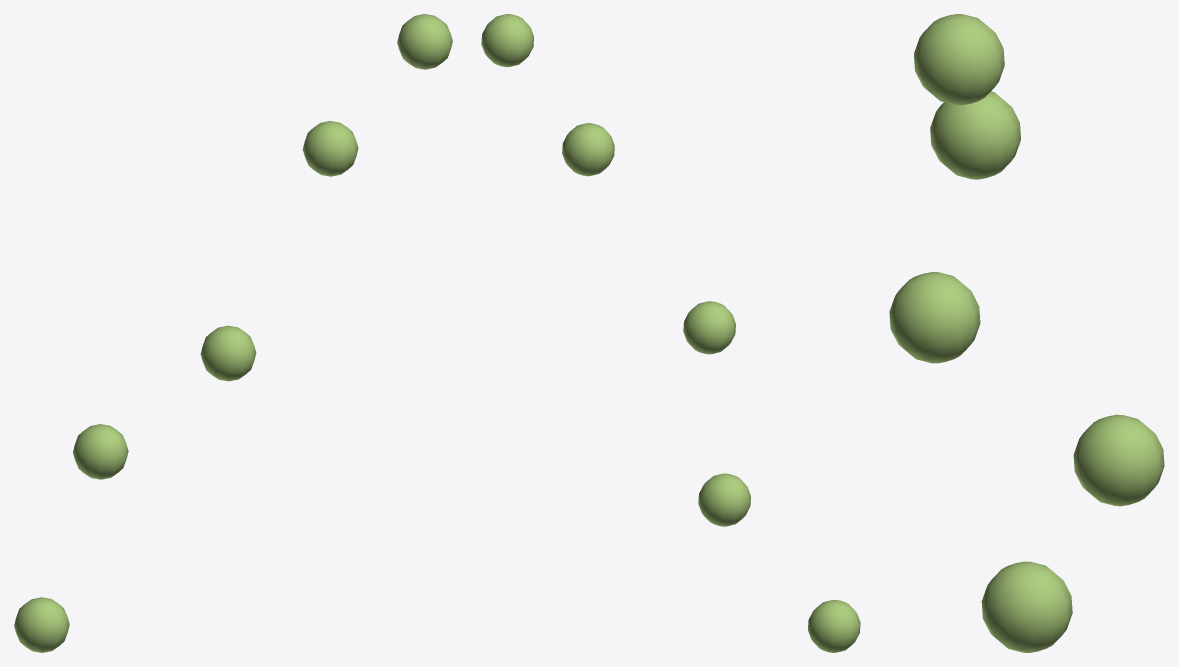
The model's file is brachial-nodes-r.glb.
3 renders of one model, left to right at view 1: azimuth 30°, elevation 25°; view 2: azimuth 150°, elevation 25°; view 3: azimuth 270°, elevation 25°, orthographic. The views are drawn at different scales.
Visible parts, largest first — view 1: Brachial nodes.r; view 2: Brachial nodes.r; view 3: Brachial nodes.r.
Boxes of the visible parts, bbox=[...] form: Brachial nodes.r: bbox=[14, 14, 452, 652]; Brachial nodes.r: bbox=[481, 14, 860, 652]; Brachial nodes.r: bbox=[889, 14, 1164, 652].
Size of the model in its own units: 0.0221 by 0.0288 by 0.00779.
